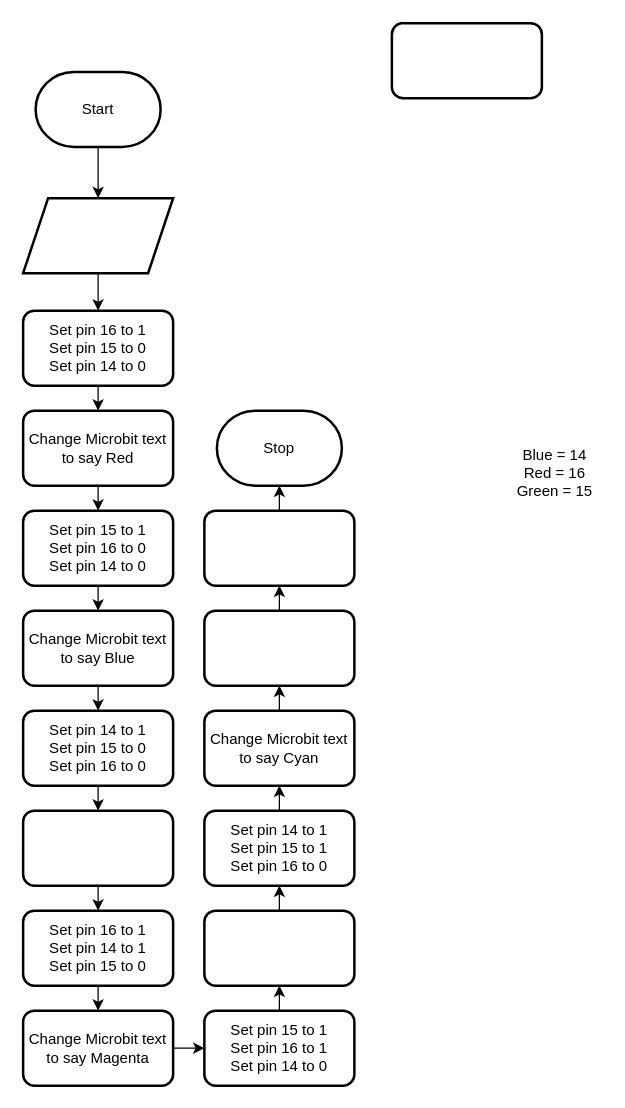
Image size: 625x1108. Some labels were removed from this diagram. Each missing label, with the box of its shape:
Change Microbit text to e: (390, 21, 542, 99)
Change Microbit text to say Green: (21, 809, 174, 886)
Change Microbit text to say White: (202, 509, 355, 586)
Change Microbit text to say Yellow: (202, 909, 355, 986)
Press A button: (21, 196, 174, 274)
Set pin # to 1 Set pin # to 1 Set pin # to 1: (202, 609, 355, 686)
